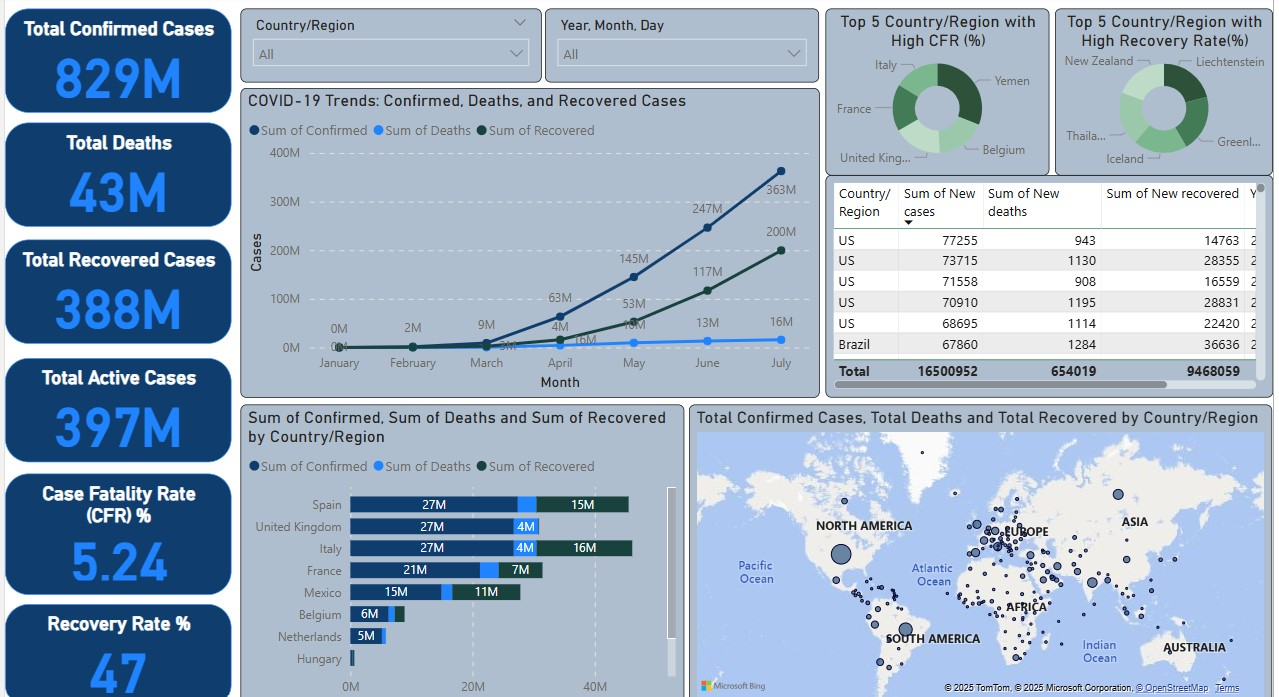

The dashboard page shown, as its layout file describes it:
{"tool":"powerbi","page":{"name":"Dashboard ","canvas":[1280,720],"ordinal":1},"visuals":[{"type":"card","title":"Total Confirmed Cases","fields":{"Values":["full_grouped.Total Confirmed Cases"]},"box":[0,13,229,105.1],"z":0},{"type":"card","title":"Total Deaths","fields":{"Values":["full_grouped.Total Deaths"]},"box":[0,128.2,229,105.1],"z":1000},{"type":"card","title":"Total Recovered Cases","fields":{"Values":["full_grouped.Total Recovered"]},"box":[0,246.2,229,105.1],"z":2000},{"type":"card","title":"Total Active Cases","fields":{"Values":["full_grouped.Total Active Cases"]},"box":[0,365.8,229,105.1],"z":3000},{"type":"card","title":"Case Fatality Rate (CFR) %","fields":{"Values":["full_grouped.Fatality Rate(CFR)"]},"box":[0,482.4,229,122.4],"z":4000},{"type":"card","title":"Recovery Rate %","fields":{"Values":["full_grouped.Recovery Rate"]},"box":[0,614.9,229,105.1],"z":5000},{"type":"lineChart","title":"COVID-19  Trends: Confirmed, Deaths, and Recovered Cases","fields":{"Category":["full_grouped.Date.Variation.Date Hierarchy.Year","full_grouped.Date.Variation.Date Hierarchy.Month","full_grouped.Date.Variation.Date Hierarchy.Day"],"Y":["Sum(full_grouped.Confirmed)","Sum(full_grouped.Deaths)","Sum(full_grouped.Recovered)"]},"box":[237.6,93.6,584.6,312.5],"z":6000},{"type":"slicer","fields":{"Values":["full_grouped.Date.Variation.Date Hierarchy.Year","full_grouped.Date.Variation.Date Hierarchy.Month","full_grouped.Date.Variation.Date Hierarchy.Day"]},"box":[545.8,13,276.5,74.9],"z":7000},{"type":"barChart","fields":{"Category":["full_grouped.Country/Region"],"Y":["Sum(full_grouped.Confirmed)","Sum(full_grouped.Deaths)","Sum(full_grouped.Recovered)"]},"box":[237.6,413.3,447.8,306.7],"z":8000},{"type":"donutChart","title":"Top 5 Country/Region with High CFR (%)","fields":{"Category":["full_grouped.Country/Region"],"Y":["full_grouped.Fatality Rate(CFR)"]},"box":[828,13,226.1,168.5],"z":9000},{"type":"slicer","fields":{"Values":["full_grouped.Country/Region"]},"box":[237.6,13,303.8,74.9],"z":10000},{"type":"donutChart","title":"Top 5 Country/Region with High Recovery Rate(%)","fields":{"Category":["full_grouped.Country/Region"],"Y":["full_grouped.Recovery Rate"]},"box":[1059.8,13,220.3,168.5],"z":11000},{"type":"tableEx","fields":{"Values":["full_grouped.Country/Region","Sum(full_grouped.New cases)","Sum(full_grouped.New deaths)","Sum(full_grouped.New recovered)","full_grouped.Date.Variation.Date Hierarchy.Year","full_grouped.Date.Variation.Date Hierarchy.Month","full_grouped.Date.Variation.Date Hierarchy.Day"]},"box":[828,181.4,452.2,224.6],"z":12000},{"type":"map","fields":{"Category":["full_grouped.Country/Region"],"Size":["full_grouped.Total Confirmed Cases"]},"box":[691.2,413.3,589,306.7],"z":13000}]}

Visuals, with their boxes in screenshot pixels (x1, y1, x2, y2):
"Total Confirmed Cases" card: detection(0, 6, 226, 110)
"Total Deaths" card: detection(0, 120, 226, 224)
"Total Recovered Cases" card: detection(0, 237, 226, 341)
"Total Active Cases" card: detection(0, 355, 226, 459)
"Case Fatality Rate (CFR) %" card: detection(0, 470, 226, 591)
"Recovery Rate %" card: detection(0, 601, 226, 696)
"COVID-19  Trends: Confirmed, Deaths, and Recovered Cases" lineChart: detection(235, 86, 813, 395)
slicer - full_grouped.Date.Variation.Date Hierarchy.Year x full_grouped.Date.Variation.Date Hierarchy.Month: detection(540, 6, 813, 80)
barChart - full_grouped.Country/Region x Sum(full_grouped.Confirmed): detection(235, 402, 678, 696)
"Top 5 Country/Region with High CFR (%)" donutChart: detection(818, 6, 1042, 173)
slicer - full_grouped.Country/Region: detection(235, 6, 535, 80)
"Top 5 Country/Region with High Recovery Rate(%)" donutChart: detection(1048, 6, 1265, 173)
tableEx - full_grouped.Country/Region x Sum(full_grouped.New cases): detection(818, 173, 1265, 395)
map - full_grouped.Country/Region x full_grouped.Total Confirmed Cases: detection(683, 402, 1265, 696)
